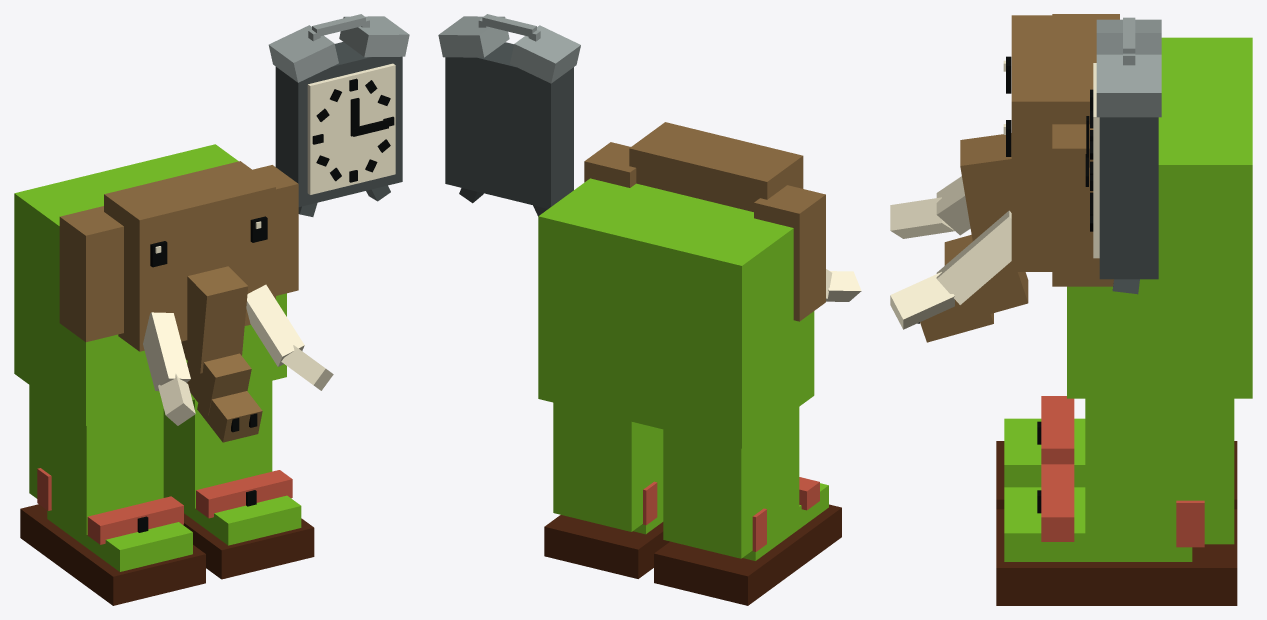
Rendered from LiriliLarila_Mini.glb.
The picture shows the model from 3 angles, left to right: view 1: azimuth 30°, elevation 25°; view 2: azimuth 150°, elevation 25°; view 3: azimuth 270°, elevation 25°; orthographic projection. The views are drawn at different scales.
Parts seen in each view (by area): view 1: LiriliLarila_Mini; view 2: LiriliLarila_Mini; view 3: LiriliLarila_Mini.
Part boxes in pixels (left/top/right/bottom): LiriliLarila_Mini: left=14, top=14, right=409, bottom=605; LiriliLarila_Mini: left=438, top=14, right=861, bottom=605; LiriliLarila_Mini: left=890, top=14, right=1252, bottom=605.
Bounding box in the file's own units: 1.49 × 2 × 1.06.
Materials: 1 (1 with a texture image).
